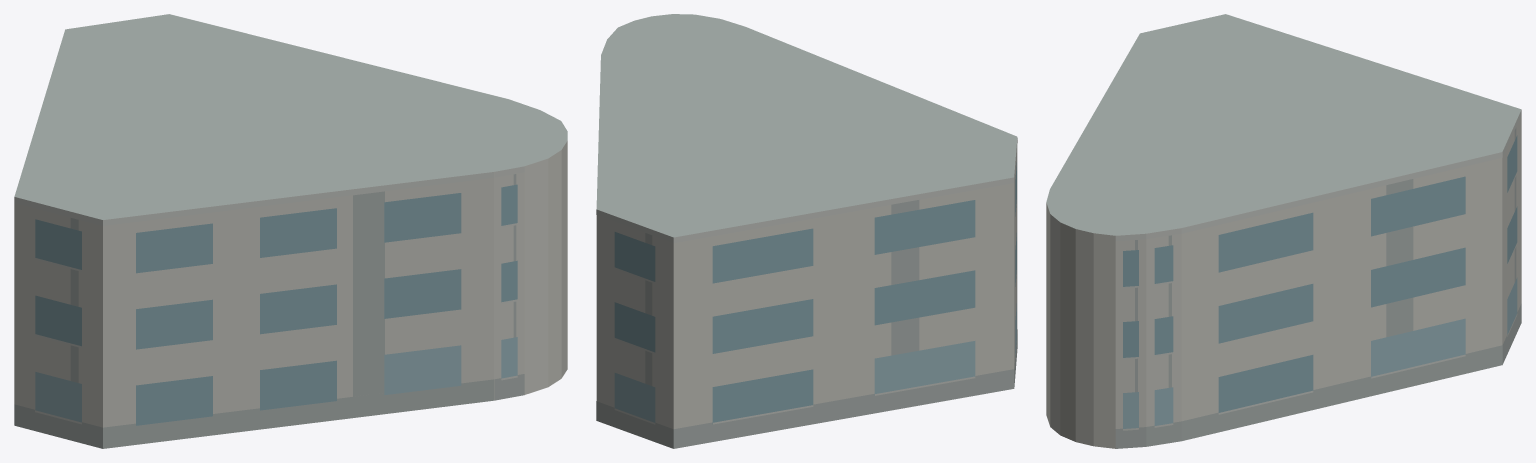
File: survey-upis-32770673.glb
The picture shows the model from 3 angles, left to right: view 1: azimuth 30°, elevation 25°; view 2: azimuth 150°, elevation 25°; view 3: azimuth 270°, elevation 25°; orthographic projection. The views are drawn at different scales.
Parts seen in each view (by area): view 1: survey-upis-32770673.tmp; view 2: survey-upis-32770673.tmp; view 3: survey-upis-32770673.tmp.
Part boxes in pixels (<box>): survey-upis-32770673.tmp: <box>14,14,567,448</box>; survey-upis-32770673.tmp: <box>596,14,1017,448</box>; survey-upis-32770673.tmp: <box>1046,14,1521,448</box>.
Size of the model in its own units: 20.43 by 9.15 by 18.51.
